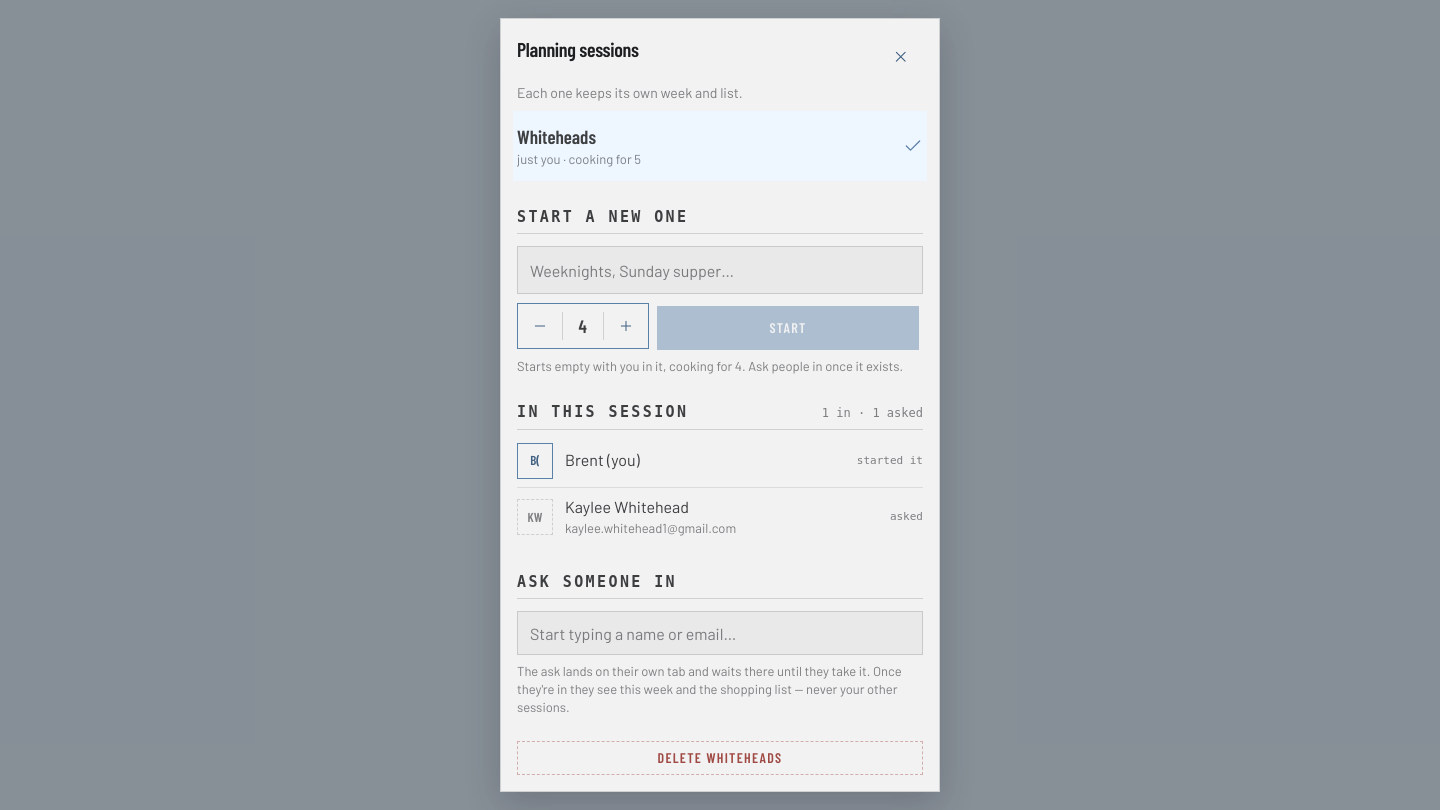
Test: asks already sent › does not offer to ask someone who is already waiting
Type "kaylee" into the search field named "search people" at (720, 634), box [517,612,923,656]
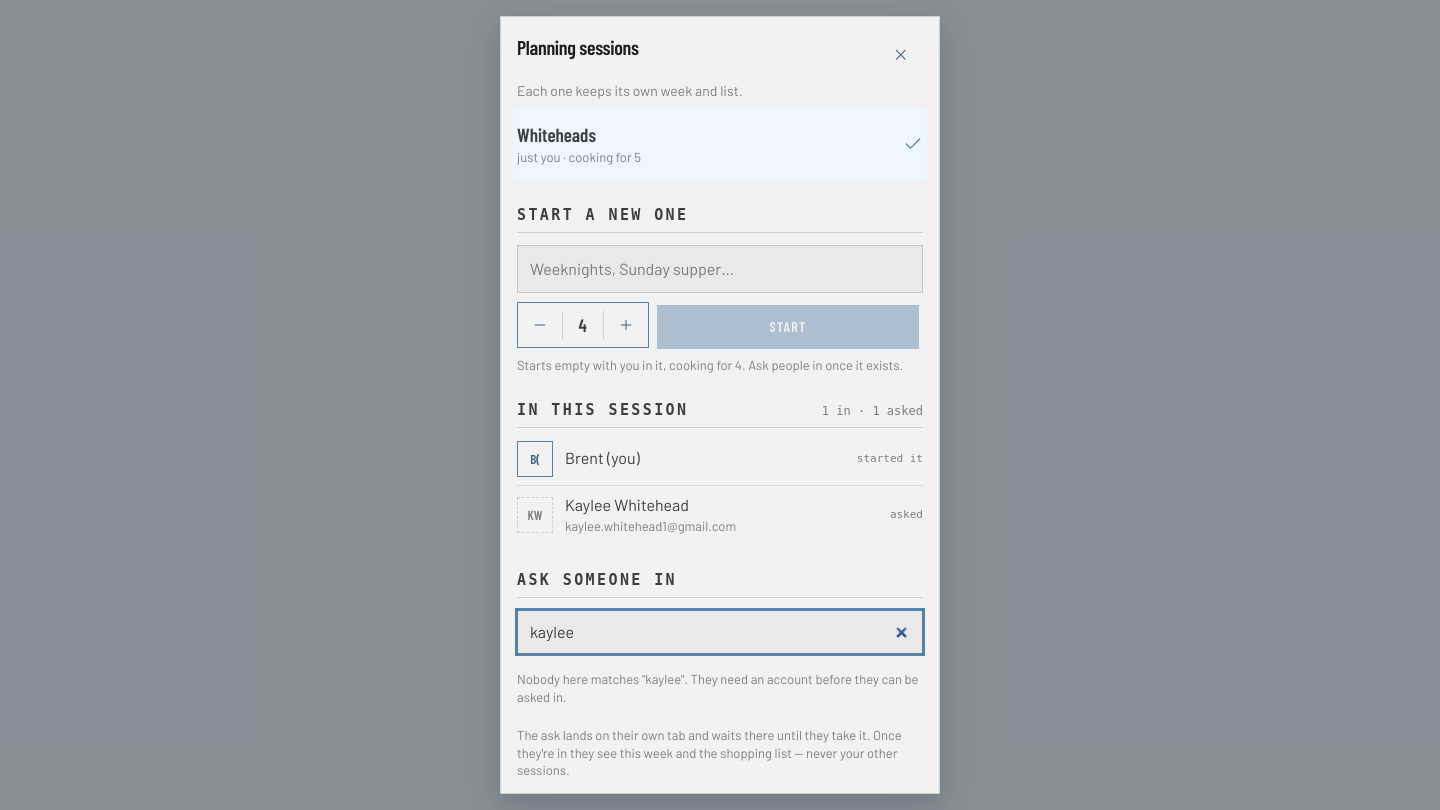
Result: the list item "need an account" is shown at [517,671,918,705]
